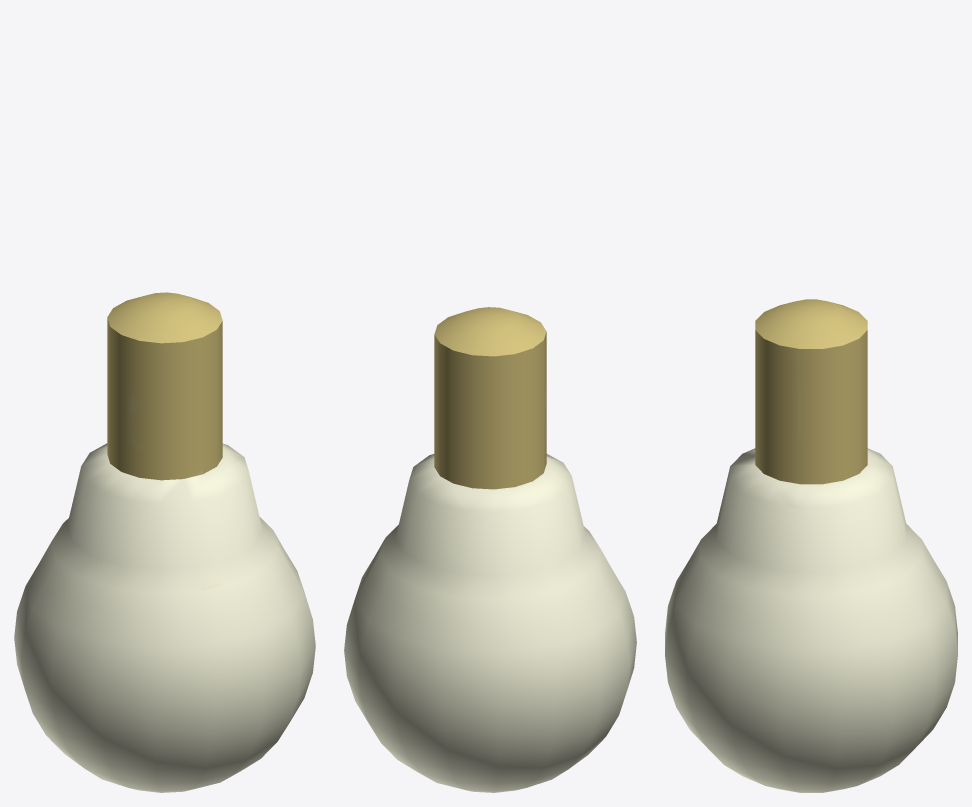
Rendered from LightBulb.fbx.
3 views of the same model, side by side, from view 1: azimuth 30°, elevation 25°; view 2: azimuth 150°, elevation 25°; view 3: azimuth 270°, elevation 25° (orthographic). The views are drawn at different scales.
Visible parts, largest first — view 1: LightBulb, LightBulb.001; view 2: LightBulb, LightBulb.001; view 3: LightBulb, LightBulb.001.
Boxes of the visible parts, left/top/right/bottom form: LightBulb: left=14, top=443, right=315, bottom=792; LightBulb.001: left=107, top=292, right=222, bottom=480; LightBulb: left=344, top=454, right=636, bottom=792; LightBulb.001: left=434, top=307, right=546, bottom=489; LightBulb: left=665, top=448, right=957, bottom=792; LightBulb.001: left=755, top=299, right=867, bottom=484.
Bounding box in the file's own units: 39.23 × 113 × 39.23.
